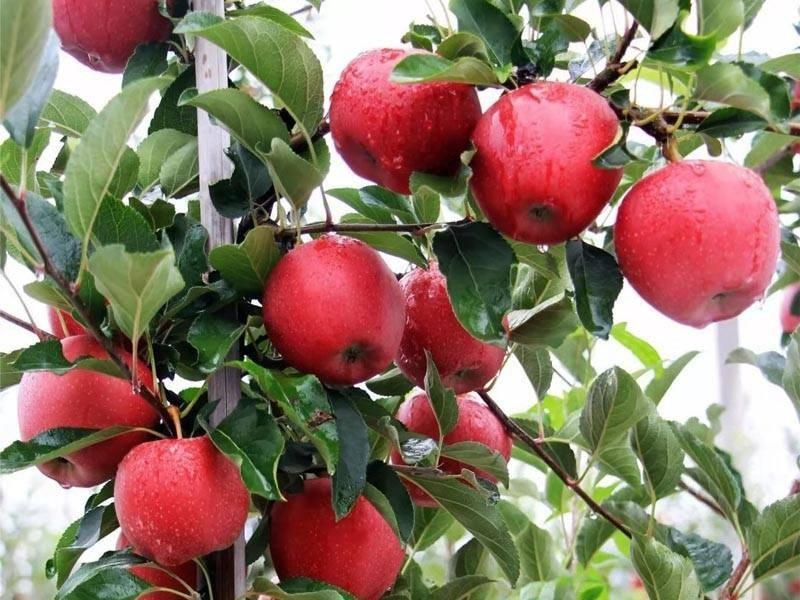apple: (615, 159, 780, 327), (323, 43, 489, 193), (469, 82, 623, 241), (258, 233, 409, 388), (13, 334, 164, 487), (111, 435, 246, 565), (266, 477, 402, 594), (392, 259, 506, 396), (387, 396, 516, 509), (48, 2, 170, 75)
